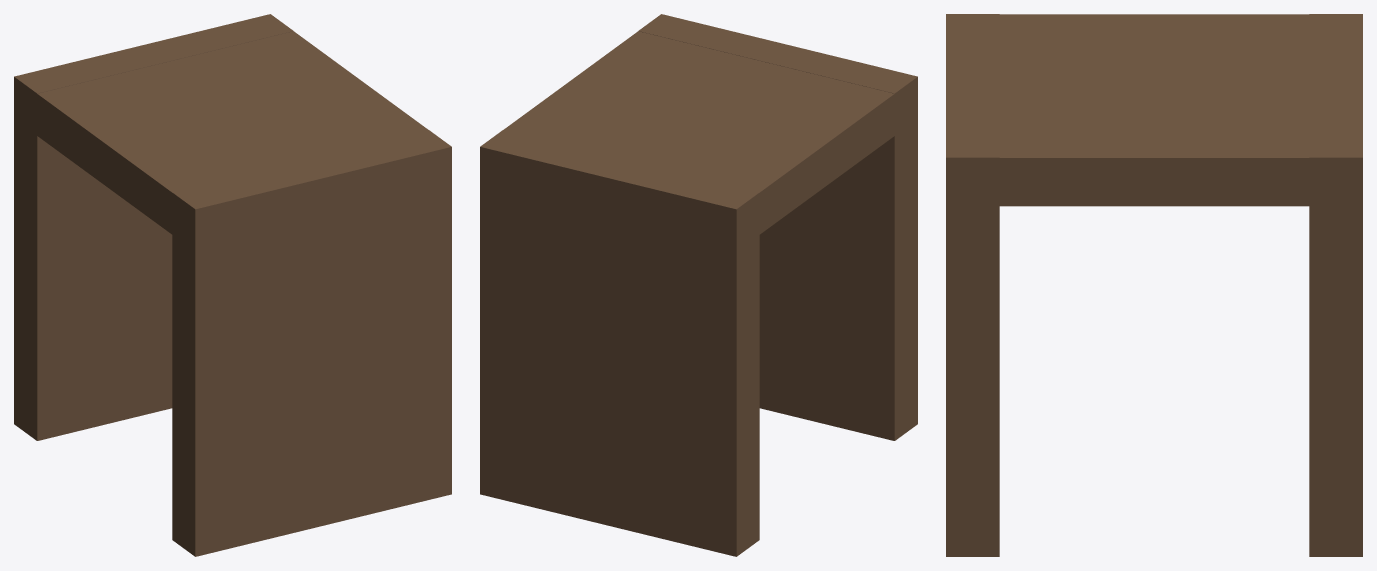
File: furniture 2.fbx
3 views of the same model, side by side, from view 1: azimuth 30°, elevation 25°; view 2: azimuth 150°, elevation 25°; view 3: azimuth 270°, elevation 25° (orthographic). The views are drawn at different scales.
Parts seen in each view (by area): view 1: pCube32, pCube31, pCube33; view 2: pCube31, pCube32, pCube33; view 3: pCube33, pCube32, pCube31.
Part boxes in pixels (x1,y1,x2,y2): pCube32: (172,130,451,556); pCube31: (14,14,293,440); pCube33: (31,31,428,234); pCube31: (480,130,759,556); pCube32: (638,14,917,440); pCube33: (503,31,901,234); pCube33: (982,14,1322,206); pCube32: (946,14,999,556); pCube31: (1309,14,1362,556).
Size of the model in its own units: 1.81 by 2.35 by 2.22.
